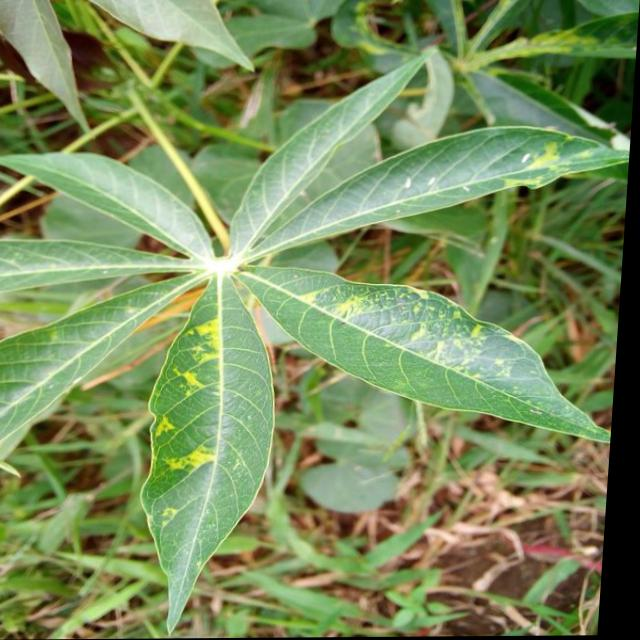Mosaico: (41, 173, 632, 506), (325, 282, 543, 392), (147, 292, 236, 505), (511, 101, 601, 182)
